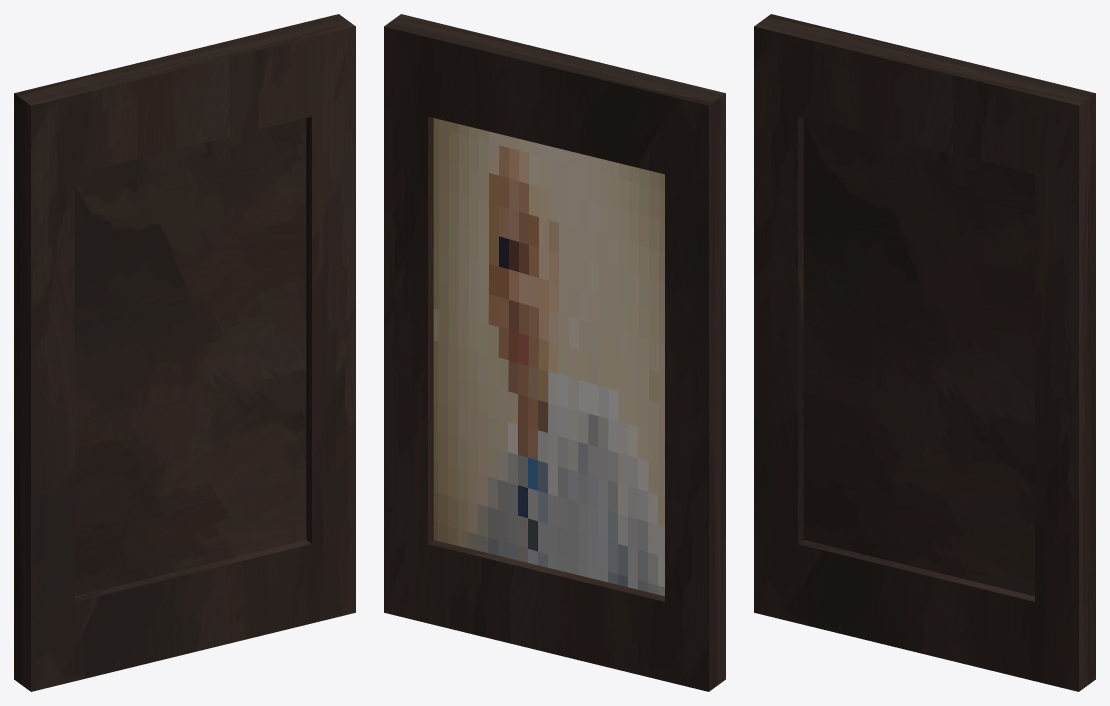
File: M-PFHanging2.fbx
3 renders of one model, left to right at view 1: azimuth 30°, elevation 25°; view 2: azimuth 150°, elevation 25°; view 3: azimuth 330°, elevation 25°, orthographic.
Visible parts, largest first — view 1: Cube; view 2: Cube; view 3: Cube.
Boxes of the visible parts, x1,y1,x2,y2 form: Cube: (14, 14, 355, 691); Cube: (384, 14, 725, 691); Cube: (754, 14, 1095, 691).
Bounding box in the file's own units: 55 × 5 × 94.85.
Materials: 1 (1 with a texture image).
